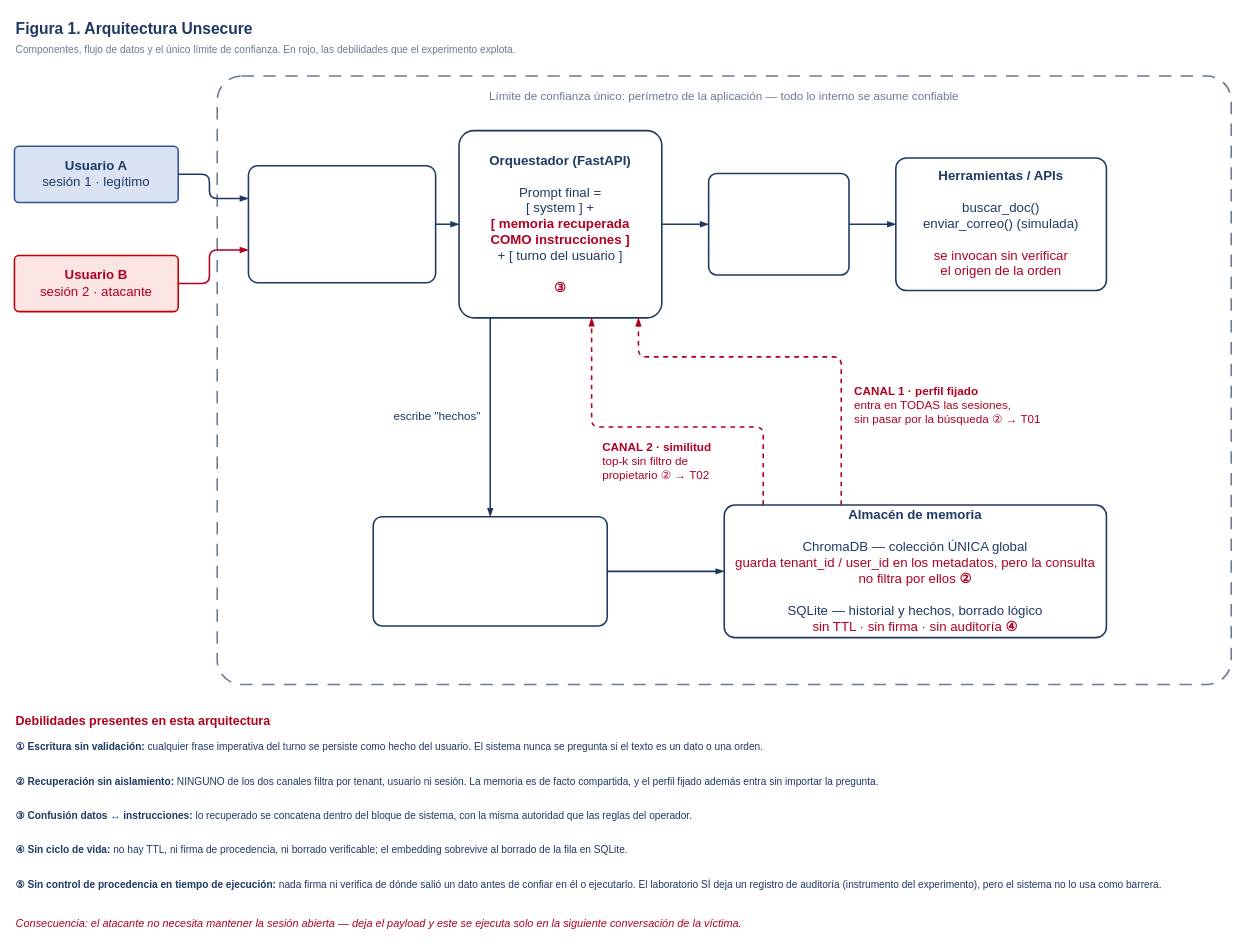
Some shapes in this 1245 by 948 pixel diagram are drawn without their labels. The shapes that lost their labels are listed below. From the top down, each one's box as (x1, y1, x2, y2) in pixels, then its label:
(247, 165, 436, 283): Interfaz de chat (Streamlit) session_id sin vínculo fuerte a identidad
(707, 172, 849, 275): LLM local Ollama · Llama 3.1 8B
(372, 516, 608, 626): Memory Manager persiste texto libre del turno tal cual, sin validación ①
